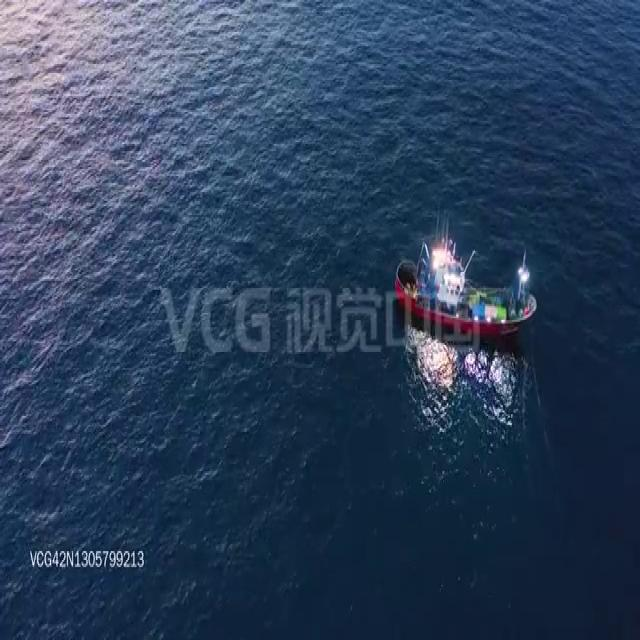fishing boat: (394, 231, 538, 336)
